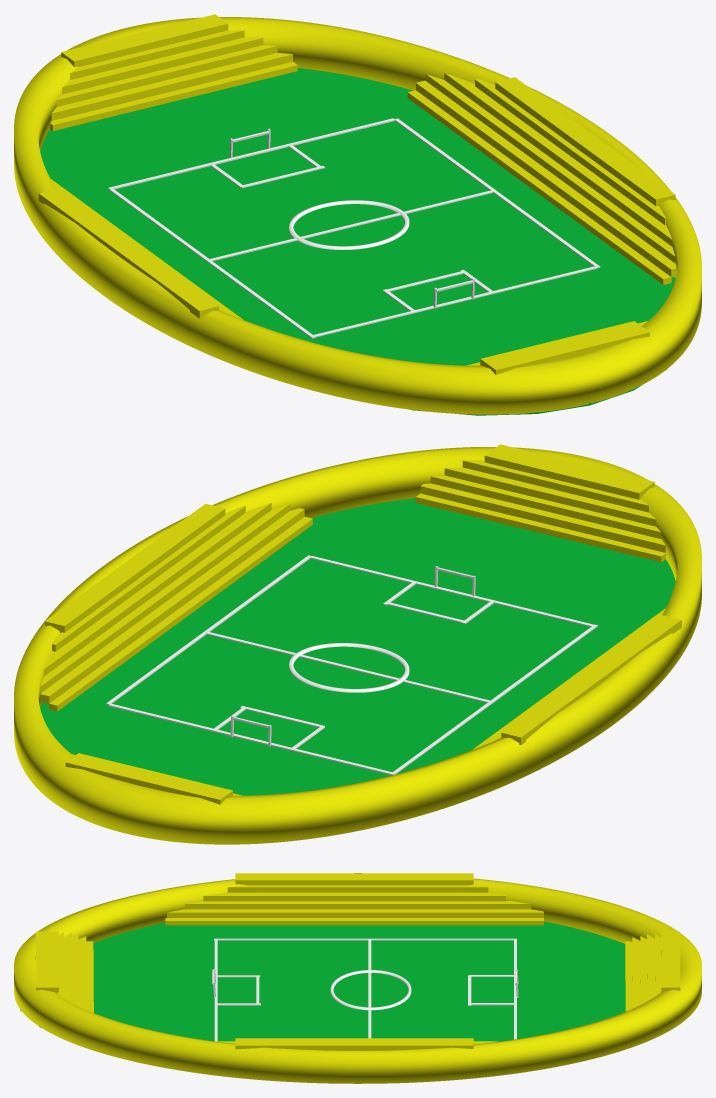
Rendered from stadium.fbx.
3 renders of one model, top to bottom at view 1: azimuth 30°, elevation 25°; view 2: azimuth 150°, elevation 25°; view 3: azimuth 270°, elevation 25°, orthographic. The views are drawn at different scales.
Parts seen in each view (by area): view 1: Cylinder, BezierCircle.001, Cube.014, Cube.015, Cube.020, Cube.012, Cube.018, Cube.013, Cube.033, Cube.027, Cube.026, Cube.029 (+10 smaller); view 2: Cylinder, BezierCircle.001, Cube.014, Cube.015, Cube.020, Cube.012, Cube.018, Cube.013, Cube.033, Cube.032, Cube.026, Cube.030 (+10 smaller); view 3: Cylinder, BezierCircle.001, Cube.021, Cube.020, Cube.022, Cube.023, Cube.016, Cube.015, Cube.019, Cube.033, Cube.026, Cube.003 (+13 smaller).
Boxes of the visible parts, left/top/right/bottom form: Cylinder: left=40, top=68, right=675, bottom=415; BezierCircle.001: left=14, top=17, right=701, bottom=414; Cube.014: left=416, top=80, right=676, bottom=277; Cube.015: left=495, top=77, right=675, bottom=206; Cube.020: left=38, top=188, right=219, bottom=318; Cube.012: left=407, top=90, right=671, bottom=284; Cube.018: left=444, top=73, right=672, bottom=246; Cube.013: left=425, top=74, right=675, bottom=263; Cube.033: left=480, top=321, right=649, bottom=374; Cube.027: left=51, top=53, right=292, bottom=120; Cube.026: left=61, top=14, right=228, bottom=66; Cube.029: left=50, top=62, right=297, bottom=130; Cylinder: left=40, top=498, right=675, bottom=795; BezierCircle.001: left=14, top=447, right=701, bottom=844; Cube.014: left=40, top=508, right=304, bottom=703; Cube.015: left=45, top=503, right=225, bottom=632; Cube.020: left=501, top=615, right=681, bottom=744; Cube.012: left=49, top=517, right=312, bottom=711; Cube.018: left=43, top=503, right=271, bottom=676; Cube.013: left=40, top=504, right=290, bottom=692; Cube.033: left=484, top=444, right=654, bottom=499; Cube.032: left=420, top=483, right=665, bottom=552; Cube.026: left=65, top=753, right=232, bottom=804; Cube.030: left=415, top=493, right=665, bottom=562; Cylinder: left=20, top=921, right=625, bottom=1041; BezierCircle.001: left=14, top=873, right=701, bottom=1083; Cube.021: left=167, top=909, right=543, bottom=917; Cube.020: left=235, top=873, right=473, bottom=885; Cube.022: left=185, top=901, right=530, bottom=909; Cube.023: left=165, top=918, right=543, bottom=925; Cube.016: left=203, top=892, right=505, bottom=901; Cube.015: left=235, top=1038, right=473, bottom=1050; Cube.019: left=227, top=885, right=488, bottom=892; Cube.033: left=35, top=931, right=58, bottom=993; Cube.026: left=661, top=931, right=680, bottom=991; Cube.003: left=214, top=938, right=513, bottom=940.
Size of the model in its own units: 13695 by 1280 by 21659.
